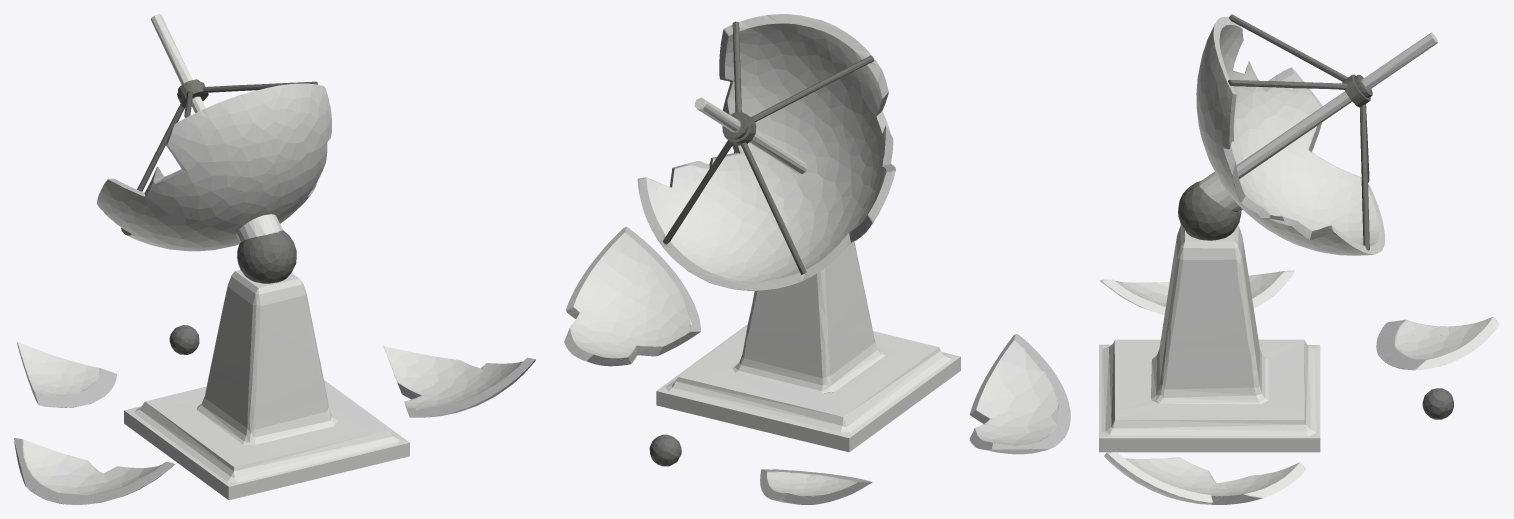
The model's file is radarschuessel_kaputt_final.glb.
3 renders of one model, left to right at view 1: azimuth 30°, elevation 25°; view 2: azimuth 150°, elevation 25°; view 3: azimuth 270°, elevation 25°, orthographic. The views are drawn at different scales.
Visible parts, largest first — view 1: 282233_23_05_25_13_05_13_2, 282233_23_05_25_13_05_13_1, 282233_23_05_25_13_05_13_3, 282233_23_05_25_13_05_13_5, 282233_23_05_25_13_05_13_4, 282233_23_05_25_13_05_13_0; view 2: 282233_23_05_25_13_05_13_1, 282233_23_05_25_13_05_13_2, 282233_23_05_25_13_05_13_3, 282233_23_05_25_13_05_13_5, 282233_23_05_25_13_05_13_4; view 3: 282233_23_05_25_13_05_13_2, 282233_23_05_25_13_05_13_1, 282233_23_05_25_13_05_13_3, 282233_23_05_25_13_05_13_4, 282233_23_05_25_13_05_13_0, 282233_23_05_25_13_05_13_5.
Part boxes in pixels (box(x1,y1,x2,y2)): 282233_23_05_25_13_05_13_2: box(124, 269, 409, 500); 282233_23_05_25_13_05_13_1: box(97, 14, 331, 354); 282233_23_05_25_13_05_13_3: box(383, 346, 535, 417); 282233_23_05_25_13_05_13_5: box(14, 438, 174, 504); 282233_23_05_25_13_05_13_4: box(17, 342, 116, 407); 282233_23_05_25_13_05_13_0: box(236, 214, 296, 283); 282233_23_05_25_13_05_13_1: box(637, 14, 895, 466); 282233_23_05_25_13_05_13_2: box(656, 241, 960, 452); 282233_23_05_25_13_05_13_3: box(564, 226, 700, 366); 282233_23_05_25_13_05_13_5: box(969, 334, 1070, 454); 282233_23_05_25_13_05_13_4: box(760, 469, 872, 504); 282233_23_05_25_13_05_13_2: box(1099, 225, 1320, 452); 282233_23_05_25_13_05_13_1: box(1196, 14, 1453, 419); 282233_23_05_25_13_05_13_3: box(1104, 451, 1305, 504); 282233_23_05_25_13_05_13_4: box(1376, 316, 1499, 370); 282233_23_05_25_13_05_13_0: box(1178, 171, 1242, 240); 282233_23_05_25_13_05_13_5: box(1100, 270, 1294, 315).
Bounding box in the file's own units: 7.22 × 5.24 × 5.07.
6 materials, 6 textured.
